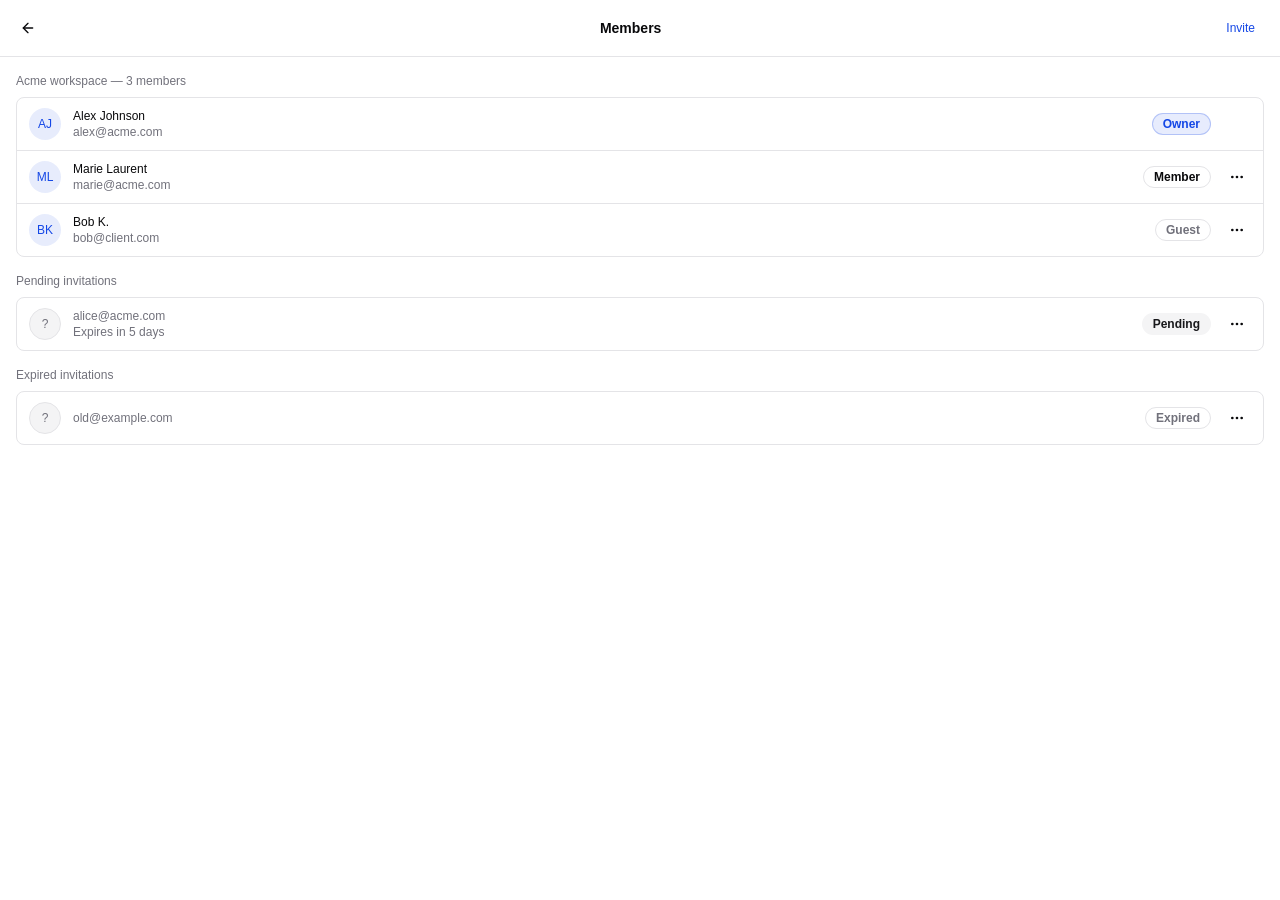
Scenario: MobileMembersView — change role › opens role picker when "Change role" is clicked
Click the button named "member actions" in the row of "marie@acme.com".
click(1237, 177)  # box [1223,163,1251,191]
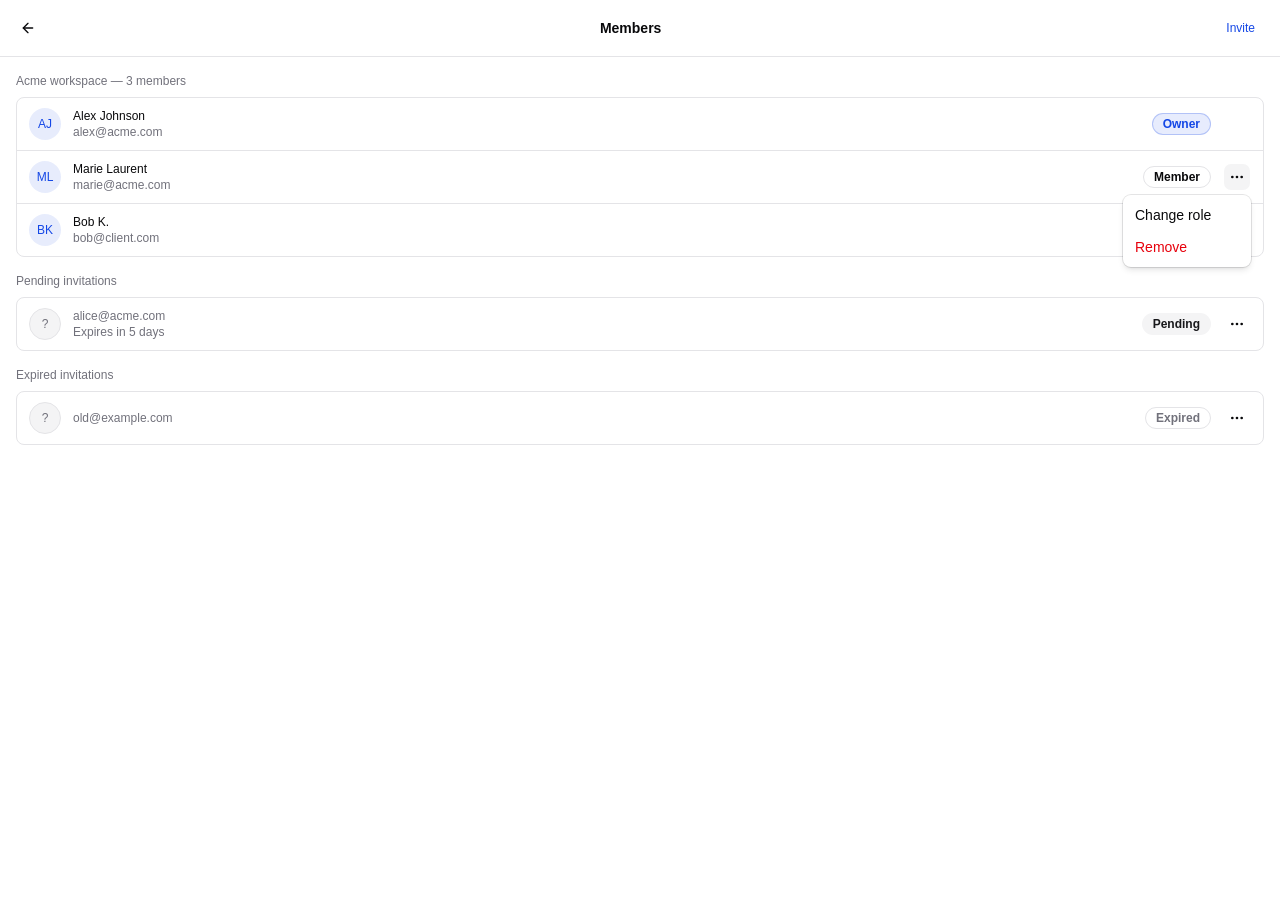
Click the menu item "Change role".
click(1173, 215)  # box [1135,207,1211,223]
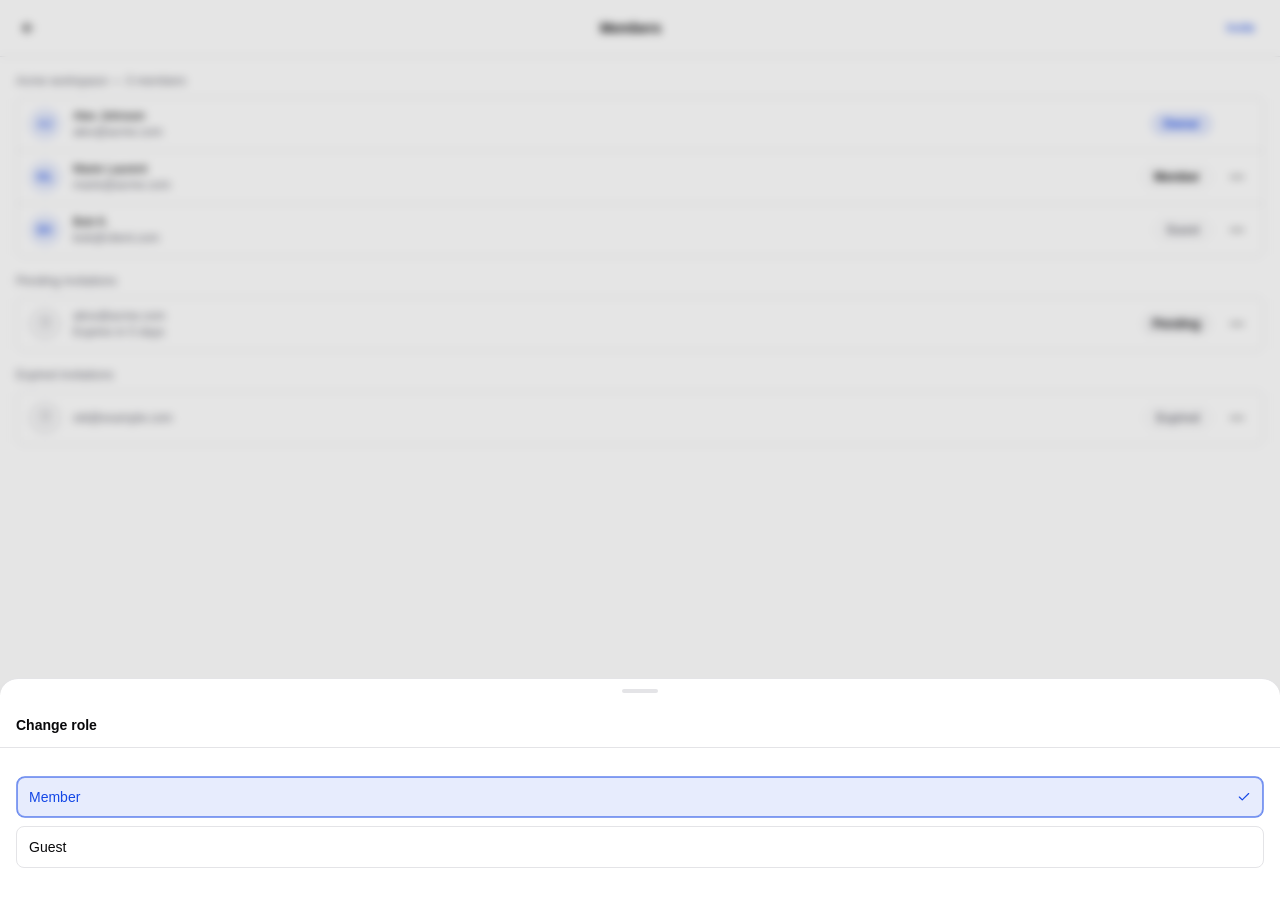
Expected: the button "member" is shown, [16,776,1264,818]
Expected: the button "guest" is shown, [16,826,1264,868]
